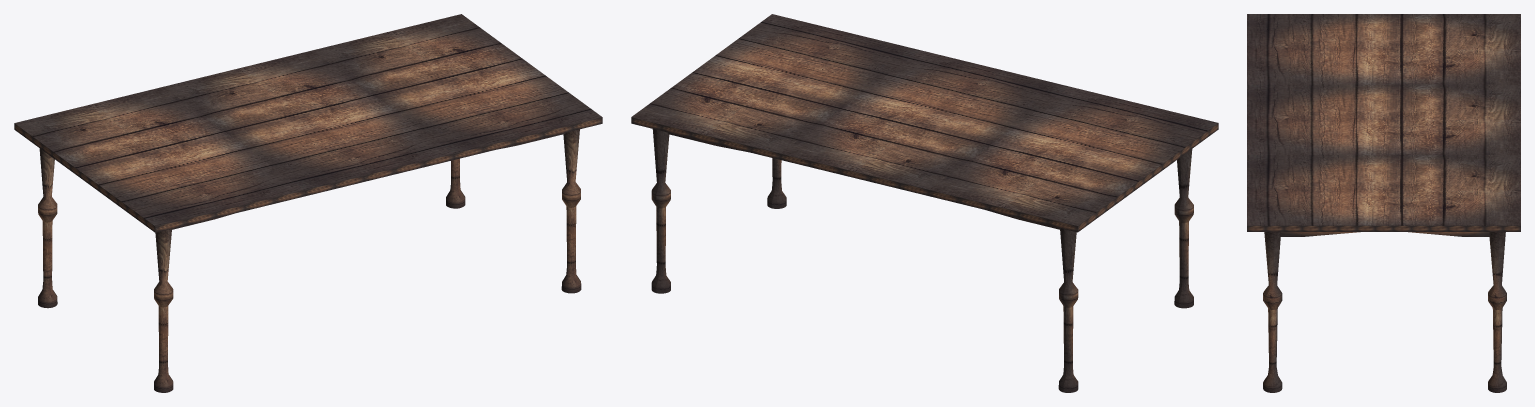
The model's file is Rustic-Table.fbx.
3 views of the same model, side by side, from view 1: azimuth 30°, elevation 25°; view 2: azimuth 150°, elevation 25°; view 3: azimuth 270°, elevation 25° (orthographic). The views are drawn at different scales.
Parts seen in each view (by area): view 1: MyFKNTable; view 2: MyFKNTable; view 3: MyFKNTable.
Part boxes in pixels (x1,y1,x2,y2): MyFKNTable: (14,14,602,392); MyFKNTable: (631,14,1218,392); MyFKNTable: (1247,14,1520,392).
Bounding box in the file's own units: 220 × 83.42 × 120.
